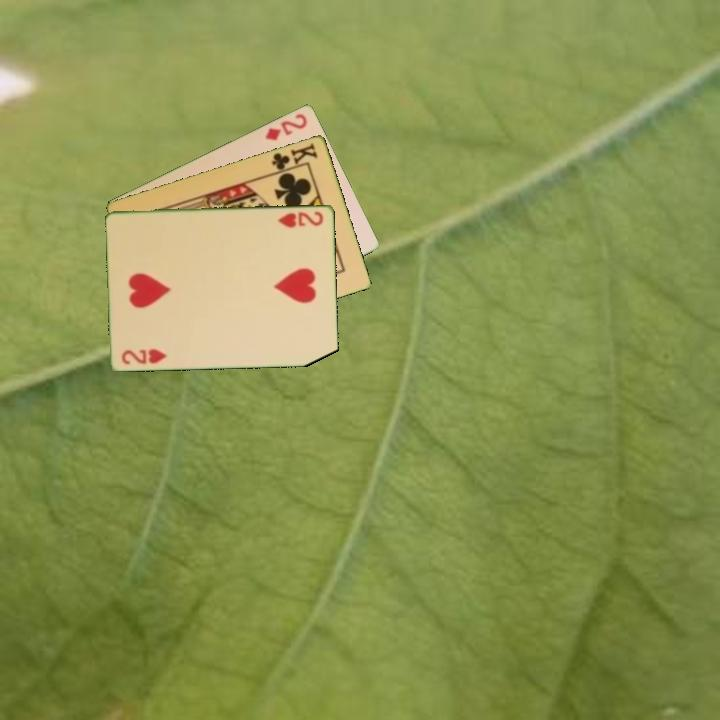2d: (262, 110, 310, 143)
2h: (274, 208, 326, 230), (118, 345, 169, 367)
Kc: (268, 139, 321, 176)
